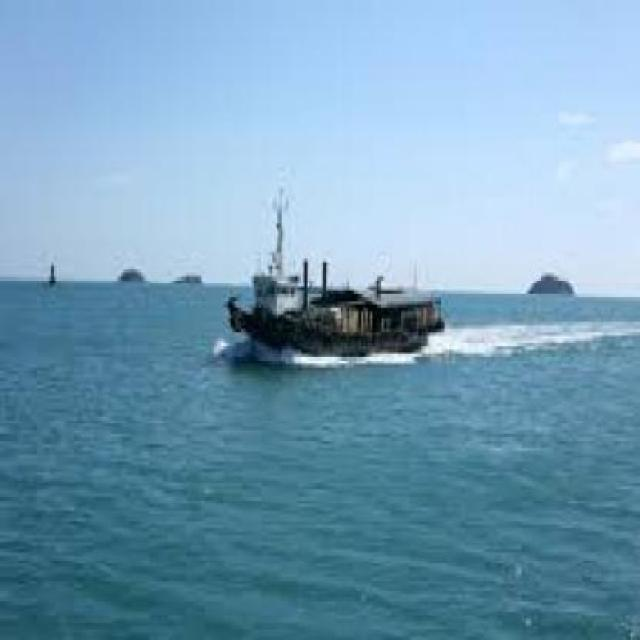fish-b: (222, 166, 453, 383)
